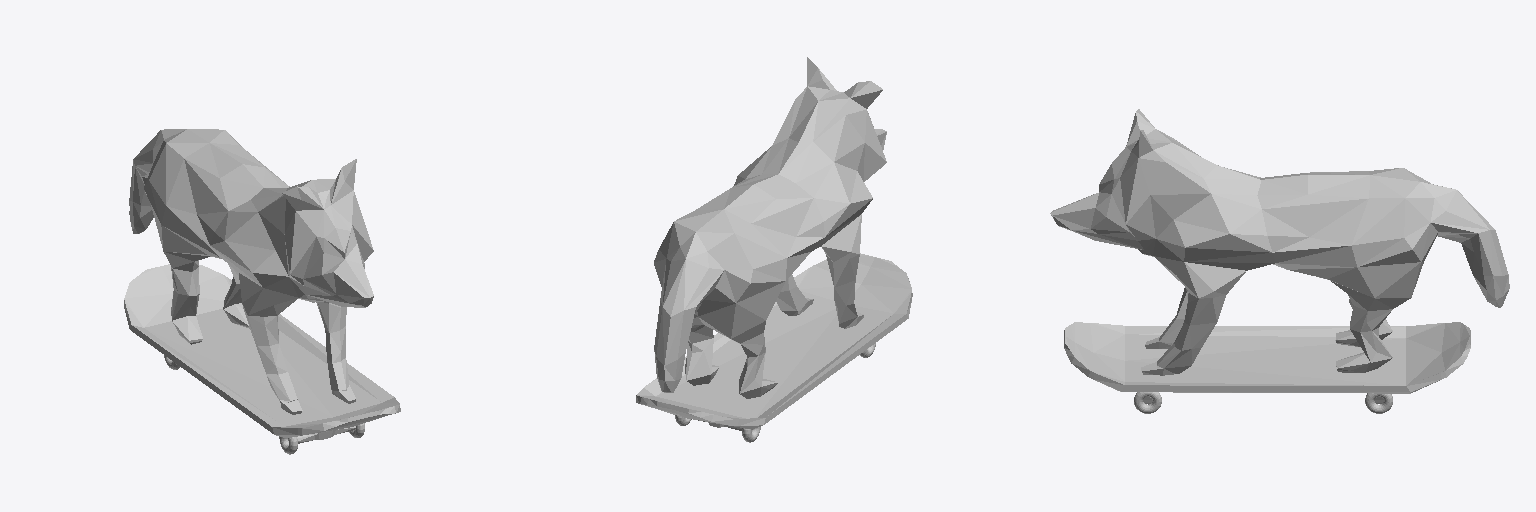
File: Fuchs14.obj
3 views of the same model, side by side, from view 1: azimuth 30°, elevation 25°; view 2: azimuth 150°, elevation 25°; view 3: azimuth 270°, elevation 25° (orthographic).
Size of the model in its own units: 3.58 by 7.89 by 11.64.